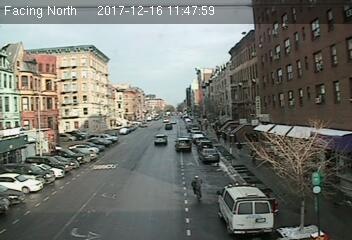bicycle: (190, 175, 205, 203)
car: (199, 148, 220, 164), (175, 138, 191, 152), (153, 134, 168, 146)
police: (218, 180, 274, 232)
